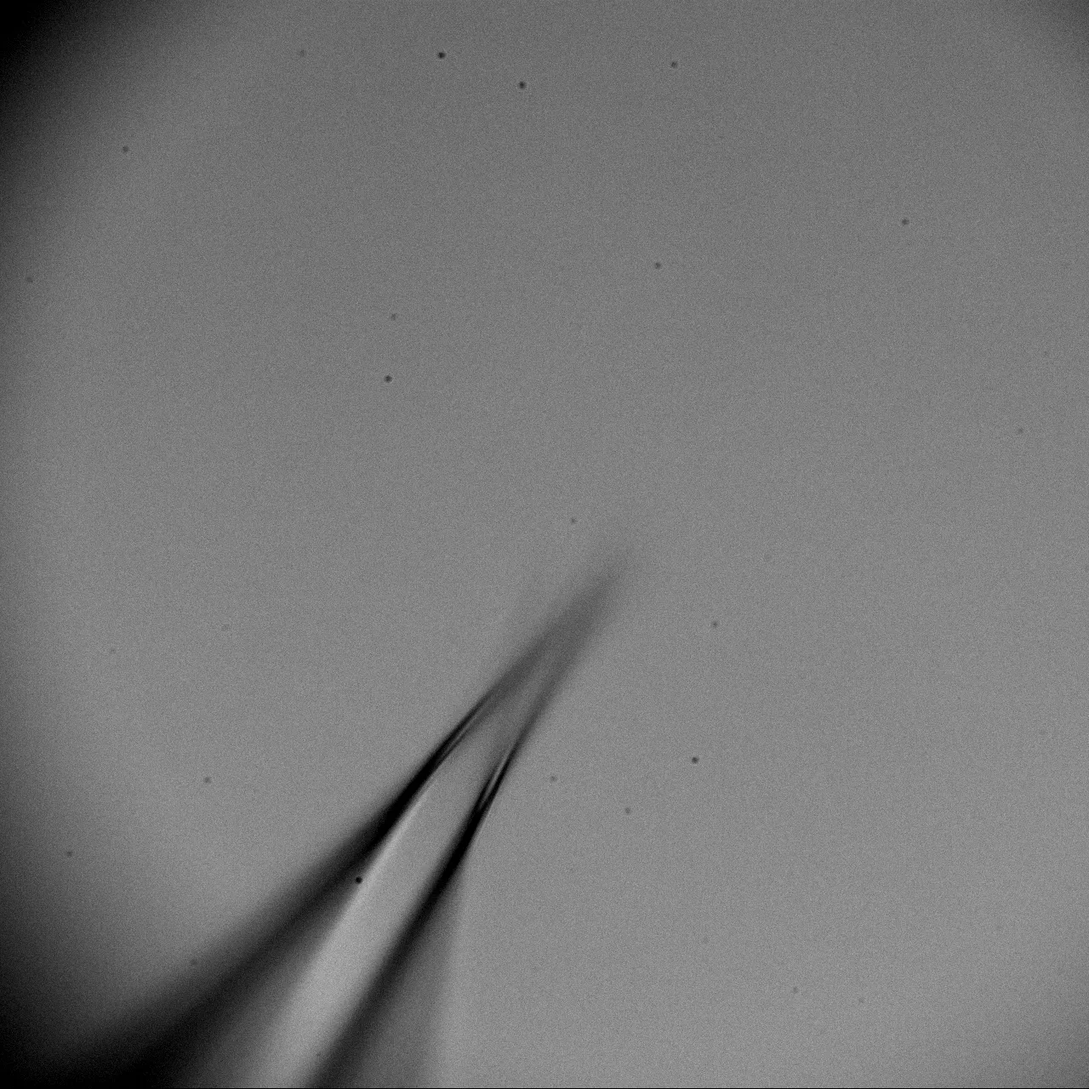tip: (186, 475, 672, 1082)
